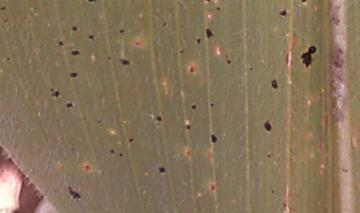tarspot: (299, 45, 317, 70), (66, 184, 81, 200), (262, 119, 273, 132), (270, 78, 279, 91), (205, 27, 214, 40), (278, 8, 288, 19), (332, 59, 343, 69), (120, 57, 130, 66), (70, 48, 80, 57), (210, 132, 217, 144), (335, 46, 344, 55), (333, 18, 341, 28), (188, 63, 195, 74), (157, 166, 166, 174), (154, 114, 162, 123), (107, 147, 116, 155), (69, 71, 78, 79), (86, 33, 94, 42), (269, 187, 277, 195), (189, 103, 197, 111), (95, 117, 103, 125), (280, 201, 288, 209), (57, 39, 64, 48), (117, 27, 126, 34), (53, 89, 60, 98), (133, 40, 142, 47), (210, 182, 216, 192), (64, 102, 74, 108), (84, 163, 90, 173), (184, 123, 191, 131), (195, 37, 202, 45), (70, 25, 78, 32), (225, 58, 232, 66), (118, 151, 125, 158), (223, 52, 230, 59), (3, 16, 9, 24), (214, 6, 222, 12), (288, 145, 294, 153), (266, 152, 272, 159), (127, 137, 134, 143), (105, 54, 112, 60), (5, 55, 11, 62), (161, 20, 167, 27), (247, 65, 253, 72), (178, 48, 184, 54), (1, 5, 7, 11), (209, 101, 214, 108), (49, 87, 55, 92), (86, 1, 97, 3), (299, 1, 308, 3), (202, 1, 211, 3)
